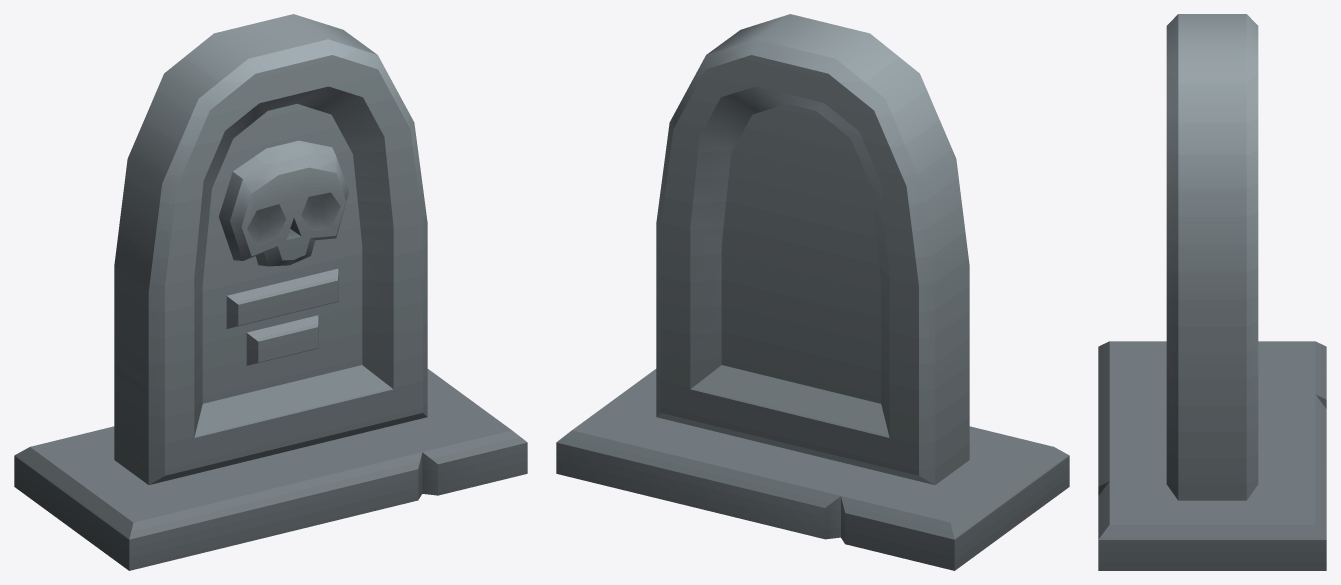
File: hb_grave_a.glb
3 views of the same model, side by side, from view 1: azimuth 30°, elevation 25°; view 2: azimuth 150°, elevation 25°; view 3: azimuth 270°, elevation 25° (orthographic).
Visible parts, largest first — view 1: grave_A; view 2: grave_A; view 3: grave_A.
Part boxes in pixels (x1,y1,x2,y2): grave_A: (14, 14, 527, 570); grave_A: (556, 14, 1069, 570); grave_A: (1098, 14, 1326, 570).
Bounding box in the file's own units: 1.03 × 1.1 × 0.5167.
1 material, 1 textured.
